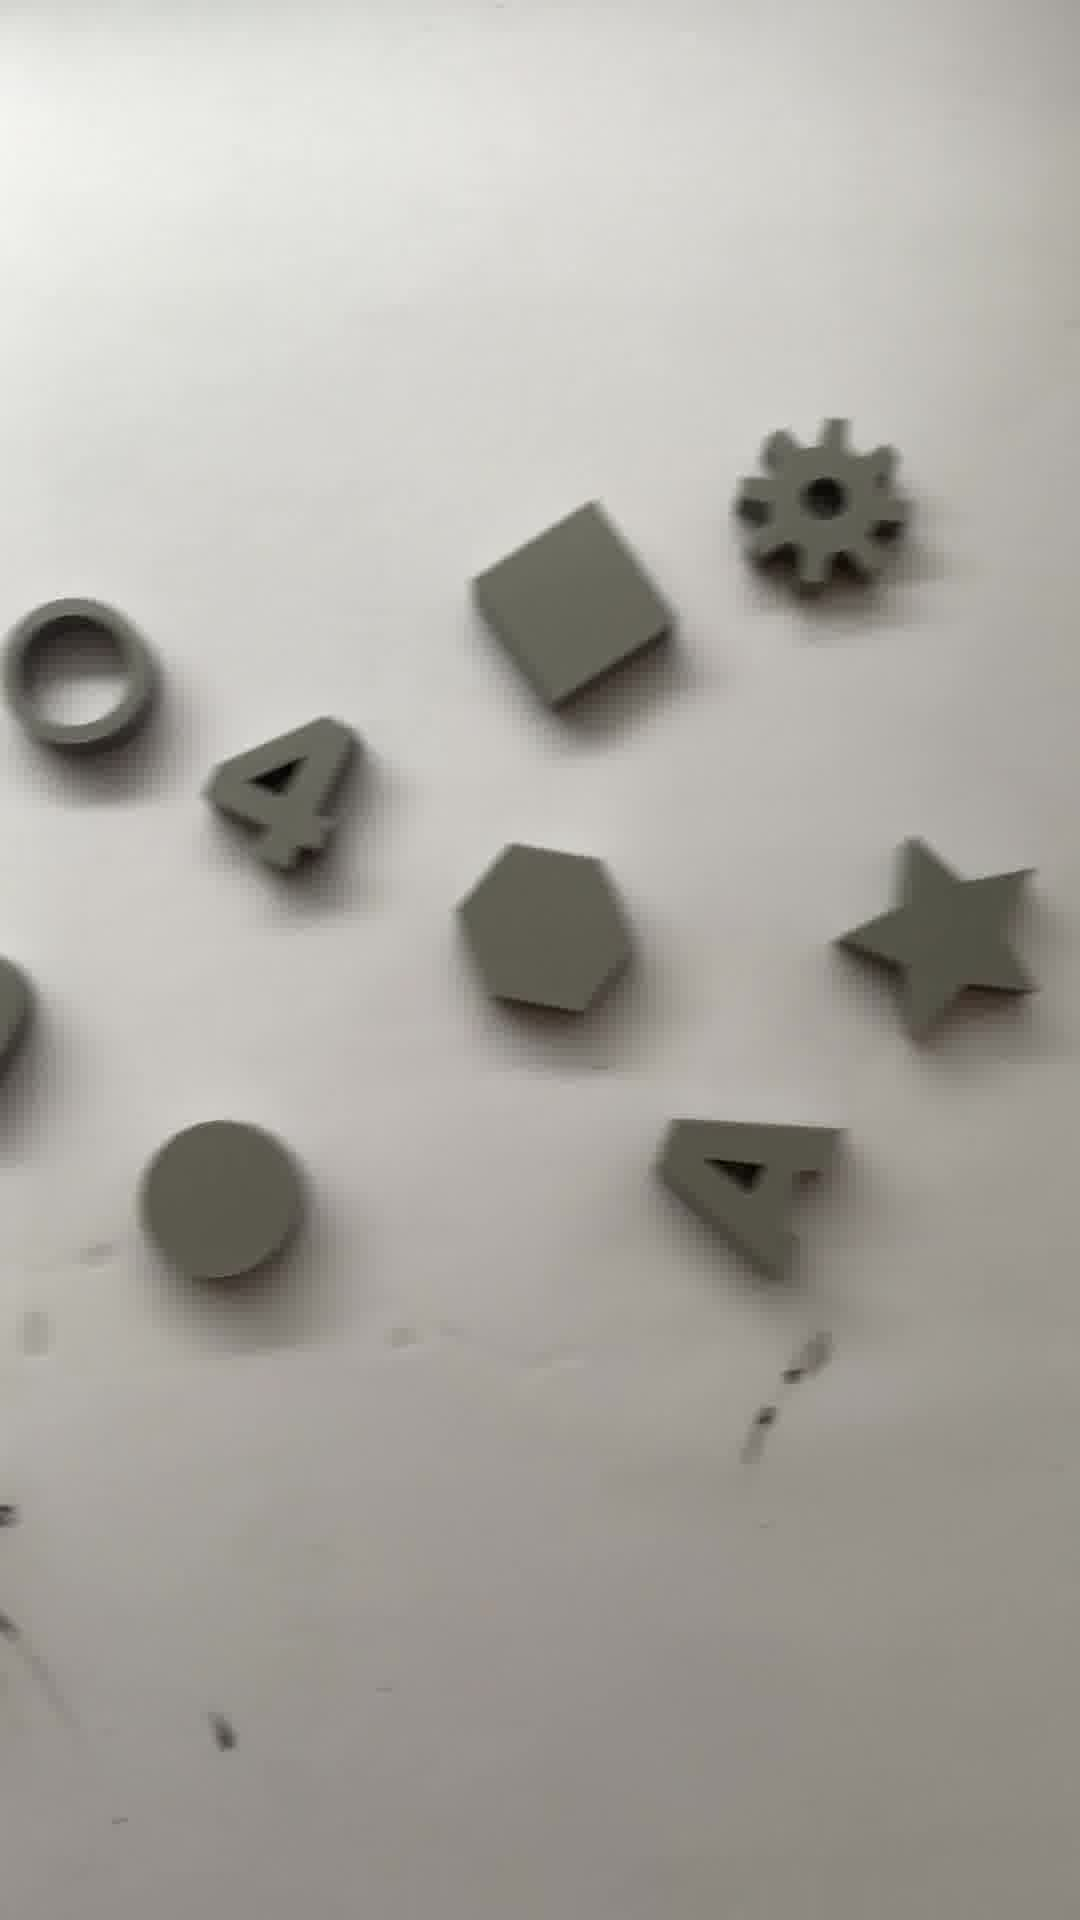Gray A-letter: (641, 1093, 856, 1288)
Gray circle: (141, 1114, 306, 1303)
Gray four: (207, 705, 371, 877)
Gray gear: (729, 418, 898, 589)
Gray hexagon: (454, 840, 644, 1033)
Gray ring: (3, 593, 156, 761)
Gray square: (464, 501, 678, 720)
Gray star: (839, 840, 1047, 1042)
